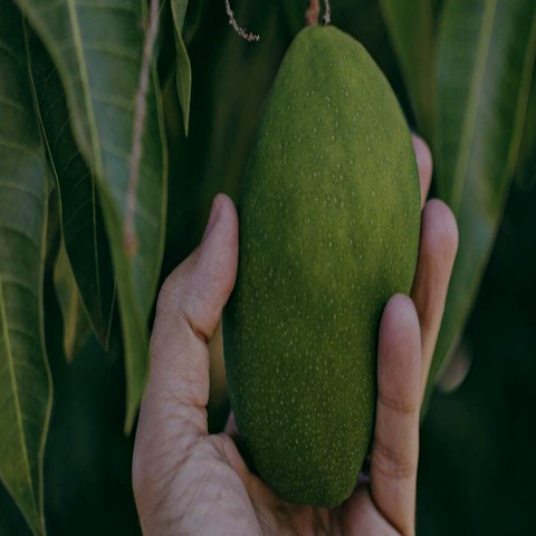mango: (186, 3, 485, 525)
